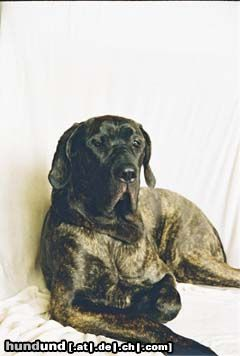fila_brasileiro: (40, 114, 240, 356)
